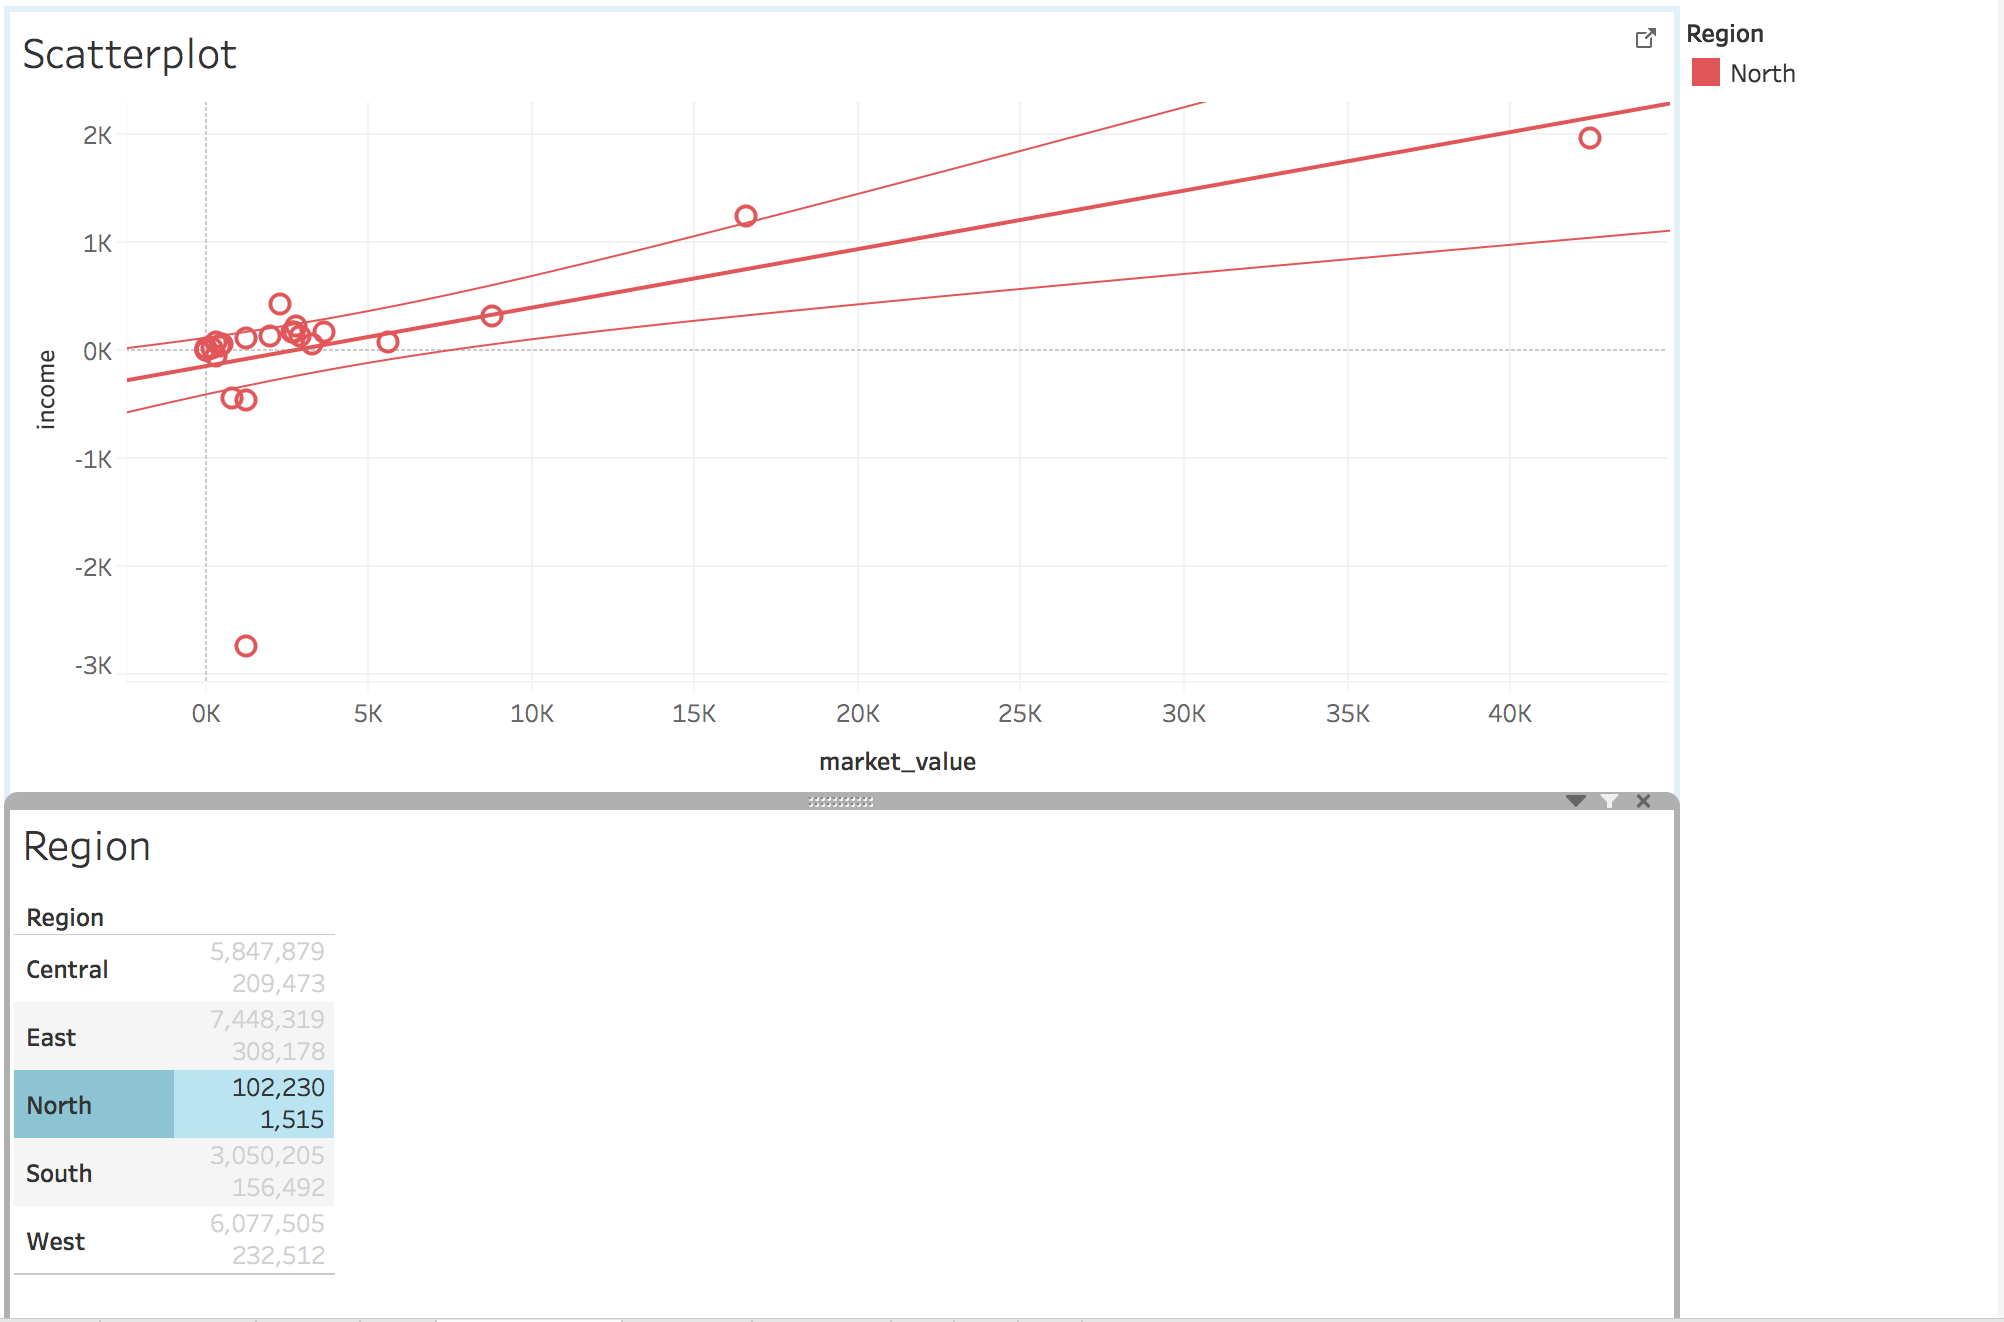

The page's visual inventory and layout, read from the dashboard file:
{"tool":"tableau","page":{"name":"Dashboard","canvas":[1000,800],"ordinal":0},"visuals":[{"type":"worksheet","title":"Scatterplot","mark":"Automatic","rows":["v_8"],"cols":["v_14"],"box":[0,0,840,400]},{"type":"legend","title":"Scatterplot","param":"[federated.09xwelj0bzqzvf1bfoy841itga37].[none:v_0 (Region):nk]","box":[840,0,160,50]},{"type":"worksheet","title":"Region","mark":"Automatic","rows":["v_0 (Region)"],"box":[0,400,840,400]}]}

Visuals, with their boxes on the page's 1000x800 design canvas (x1, y1, x2, y2). These are canvas units, not pixel positions in the 2004x1322 screenshot, which may show the page scaled, cropped or inside an application window:
"Scatterplot" worksheet: bbox=(0, 0, 840, 400)
"Scatterplot" legend: bbox=(840, 0, 1000, 50)
"Region" worksheet: bbox=(0, 400, 840, 800)
